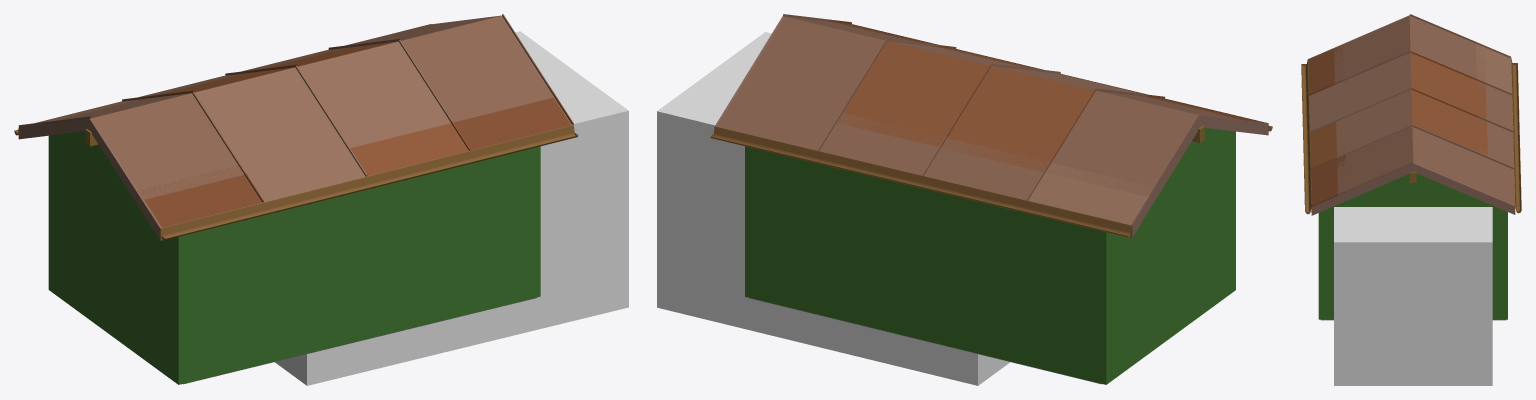
The model's file is casa4_verde.fbx.
3 renders of one model, left to right at view 1: azimuth 30°, elevation 25°; view 2: azimuth 150°, elevation 25°; view 3: azimuth 270°, elevation 25°, orthographic. The views are drawn at different scales.
Parts seen in each view (by area): view 1: Cube, Roof, Cube.001; view 2: Cube, Roof, Cube.001; view 3: Roof, Cube.001, Cube.
Part boxes in pixels (x1=…): Cube: x1=48, y1=131, x2=540, y2=384; Roof: x1=14, y1=14, x2=578, y2=240; Cube.001: x1=275, y1=31, x2=628, y2=385; Cube: x1=745, y1=128, x2=1235, y2=384; Roof: x1=710, y1=14, x2=1272, y2=237; Cube.001: x1=657, y1=32, x2=1010, y2=385; Roof: x1=1301, y1=14, x2=1521, y2=215; Cube.001: x1=1334, y1=207, x2=1492, y2=385; Cube: x1=1318, y1=173, x2=1507, y2=319.
Bounding box in the file's own units: 1794 × 951 × 959.
